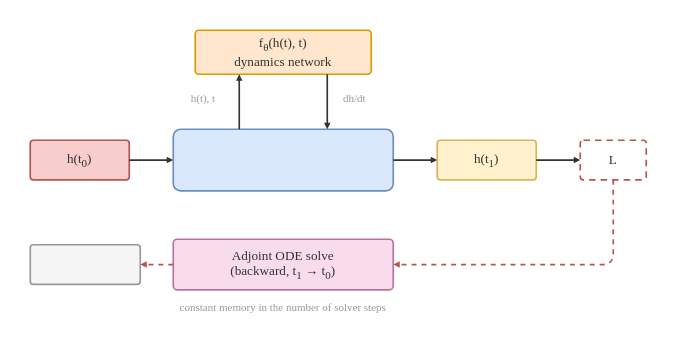
The diagram is 675 pixels wide and 344 high, and some of its shapes have lost their labels. The centre of each missing label's shape, as x and y in pixels:
ODE solver h(t 1 ) = h(t 0 ) + ∫ f θ dt: (283,159)
∂L/∂θ, ∂L/∂h(t 0 ): (85,264)
